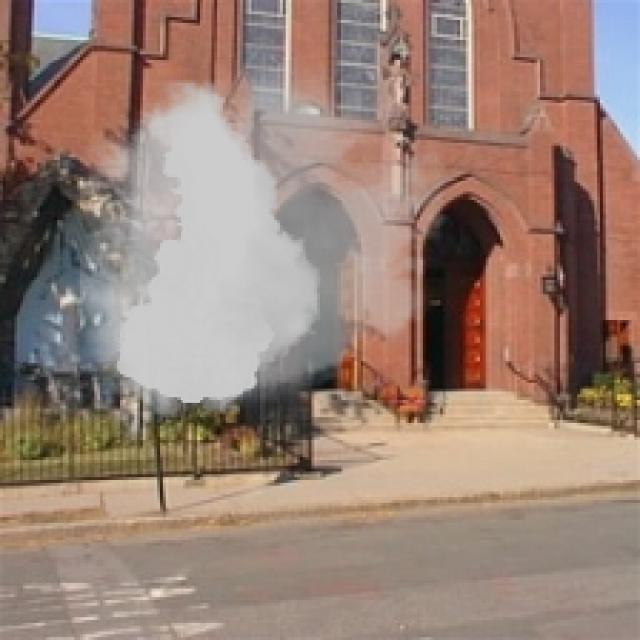Smoke: (46, 57, 472, 429)
